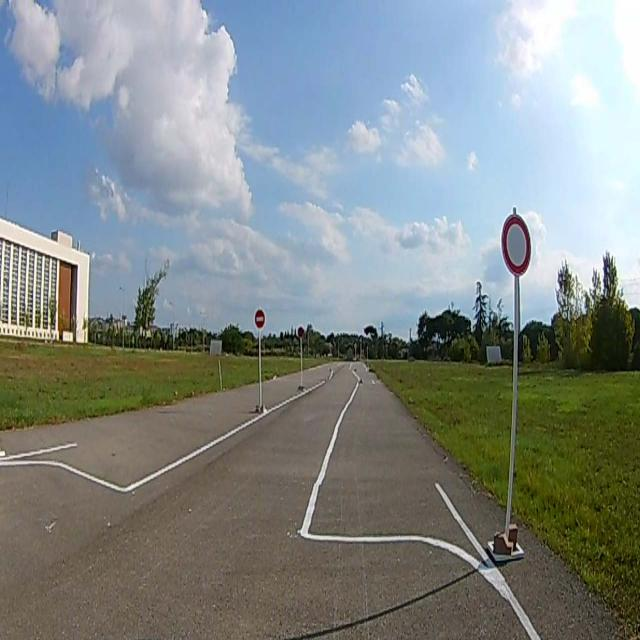girisyok: (255, 309, 265, 328)
